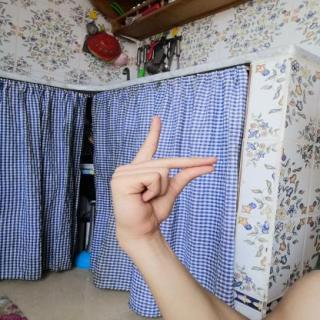TAA: (101, 110, 225, 245)
